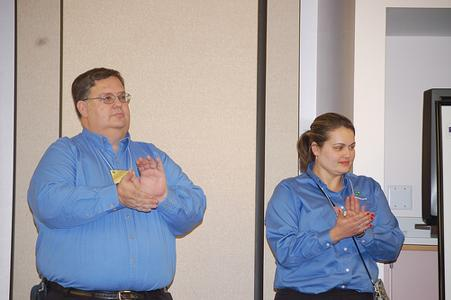person: (27, 68, 210, 300)
